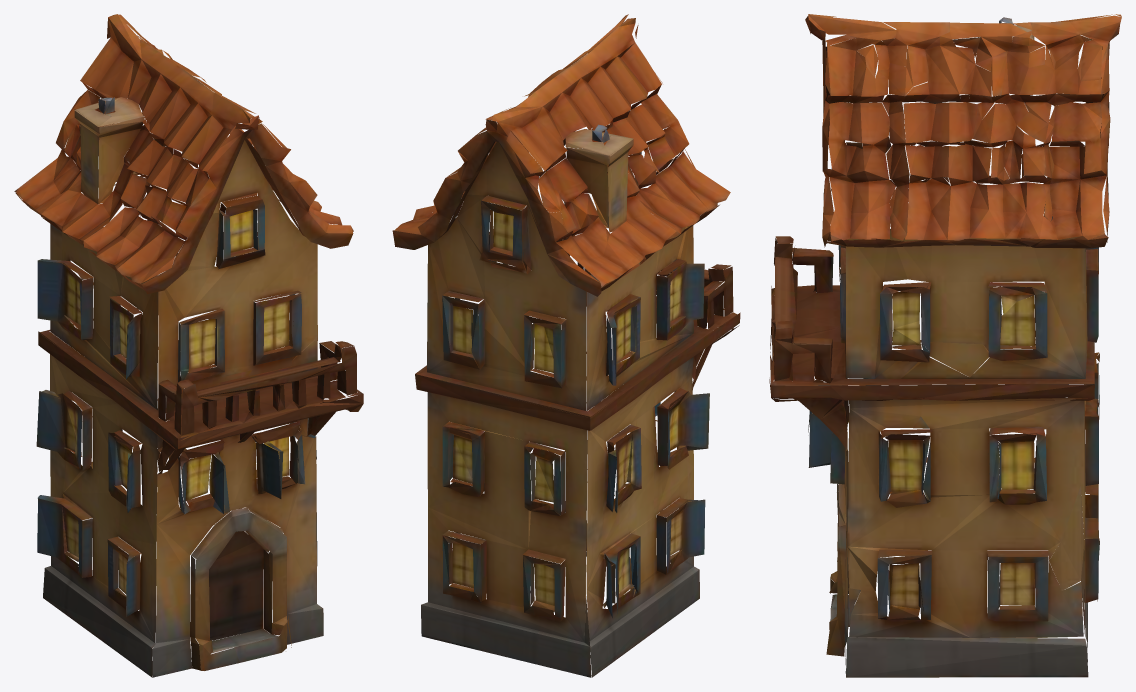
Rendered from kit_casa_alta.glb.
3 renders of one model, left to right at view 1: azimuth 30°, elevation 25°; view 2: azimuth 150°, elevation 25°; view 3: azimuth 270°, elevation 25°, orthographic. The views are drawn at different scales.
Visible parts, largest first — view 1: _leggero; view 2: _leggero; view 3: _leggero.
Part boxes in pixels (x1,y1,x2,y2): _leggero: (14, 14, 363, 677); _leggero: (392, 14, 740, 677); _leggero: (769, 14, 1121, 677).
Bounding box in the file's own units: 0.8199 × 1.94 × 1.
Materials: 1 (1 with a texture image).
